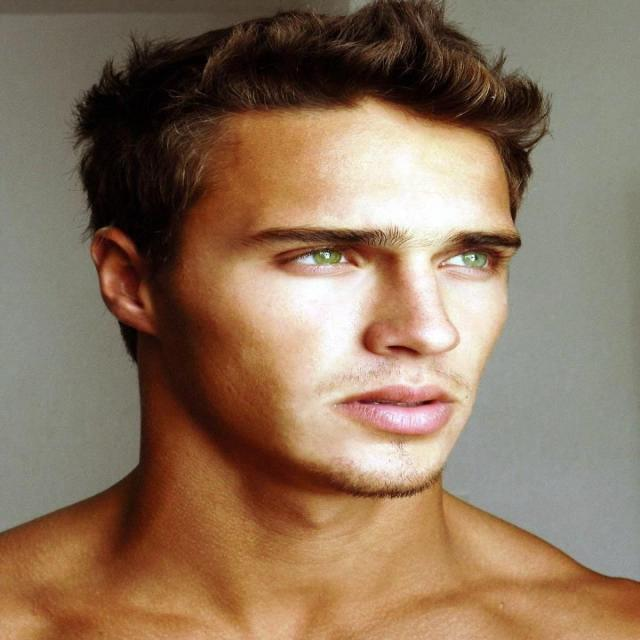earlobe: (125, 307, 152, 332)
eye: (288, 247, 355, 267), (438, 248, 494, 268)
nose: (378, 342, 462, 382)
wholeear: (90, 226, 152, 332)
